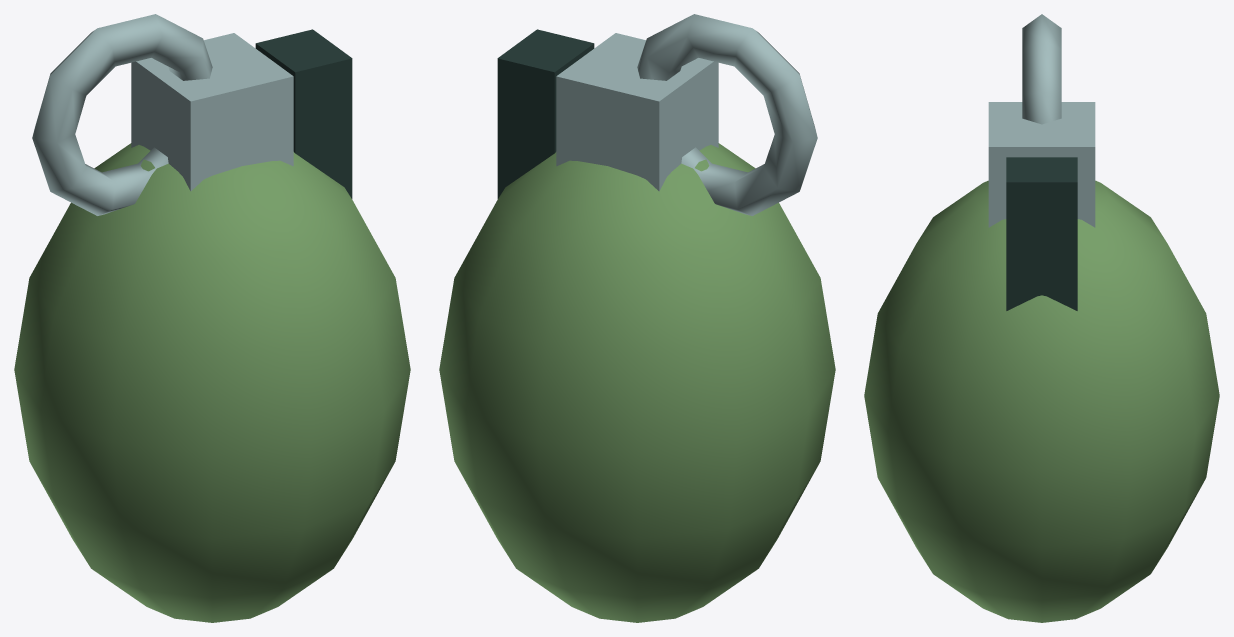
File: grenade.glb
The picture shows the model from 3 angles, left to right: view 1: azimuth 30°, elevation 25°; view 2: azimuth 150°, elevation 25°; view 3: azimuth 270°, elevation 25°; orthographic projection. The views are drawn at different scales.
Parts seen in each view (by area): view 1: grenade; view 2: grenade; view 3: grenade.
Boxes of the visible parts, <box> form: grenade: <box>14,14,410,622</box>; grenade: <box>439,14,835,622</box>; grenade: <box>864,14,1219,622</box>.
Size of the model in its own units: 0.615 by 1.02 by 0.6.
